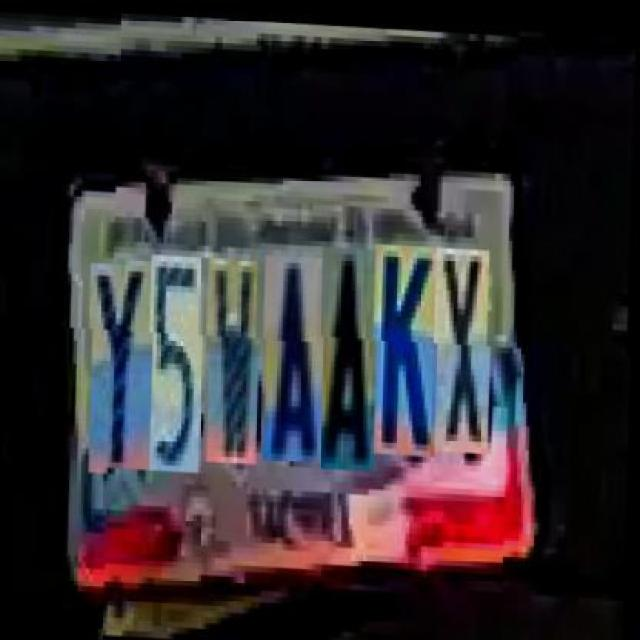5: (152, 252, 206, 471)
a: (323, 243, 382, 468), (266, 252, 328, 458)
k: (377, 239, 441, 452)
w: (209, 256, 263, 462)
x: (437, 242, 495, 448)
y: (92, 256, 156, 469)
